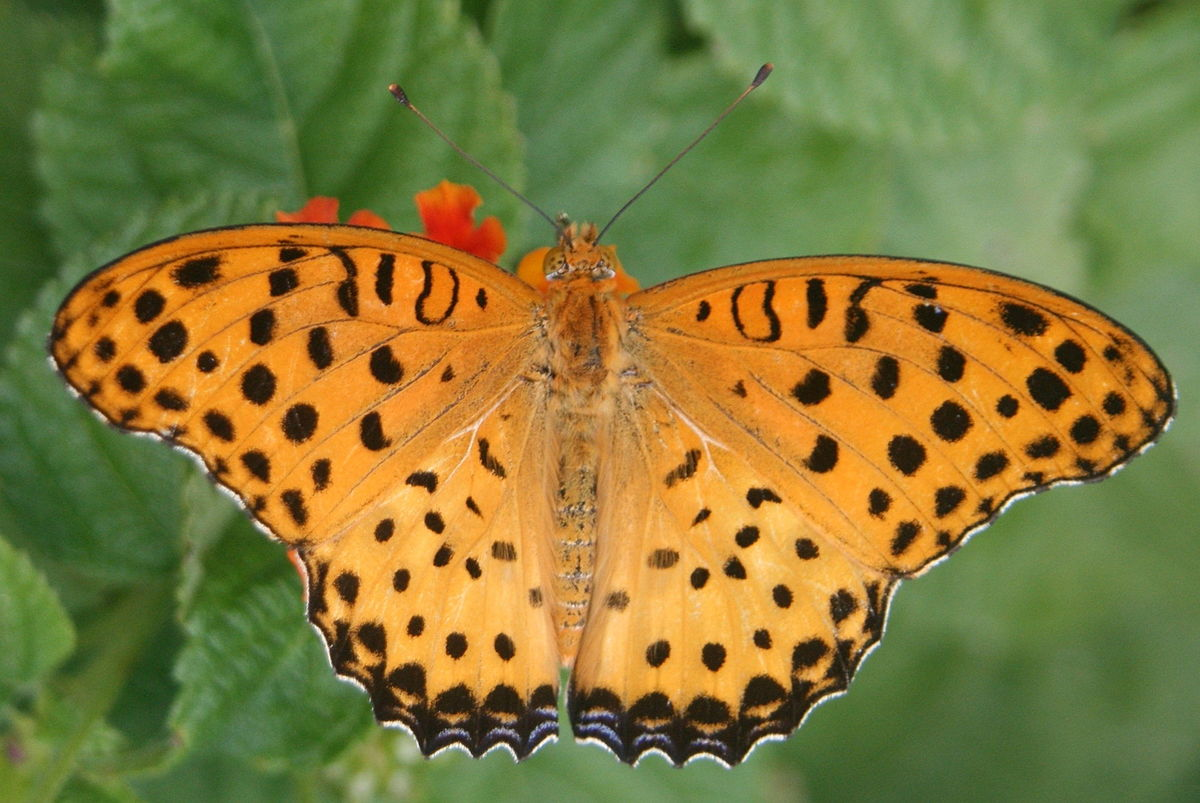Argyreus hyperbius: (40, 53, 1183, 776)
butterfly: (42, 55, 1185, 778)
